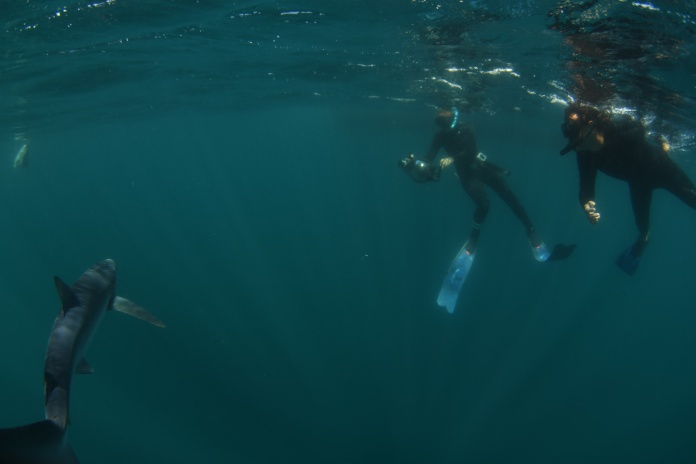Azul: (1, 246, 181, 463)
